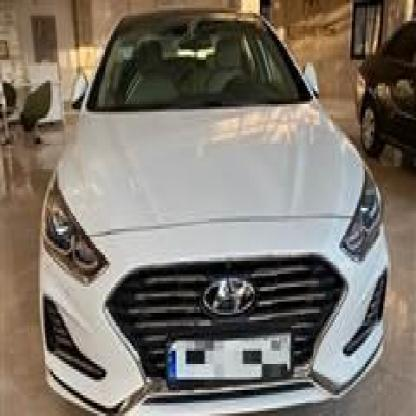Car: (42, 13, 397, 416), (336, 8, 416, 203)
